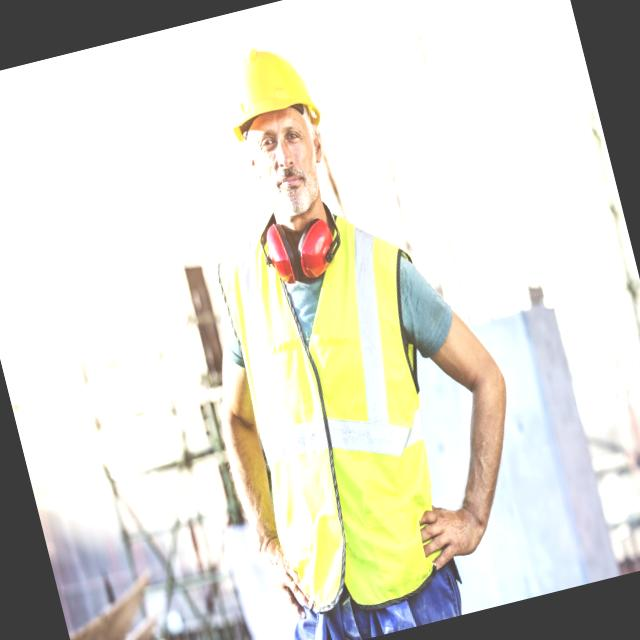helmet: (212, 26, 324, 146)
no-goggles: (238, 114, 324, 167)
vest: (193, 185, 494, 627)
